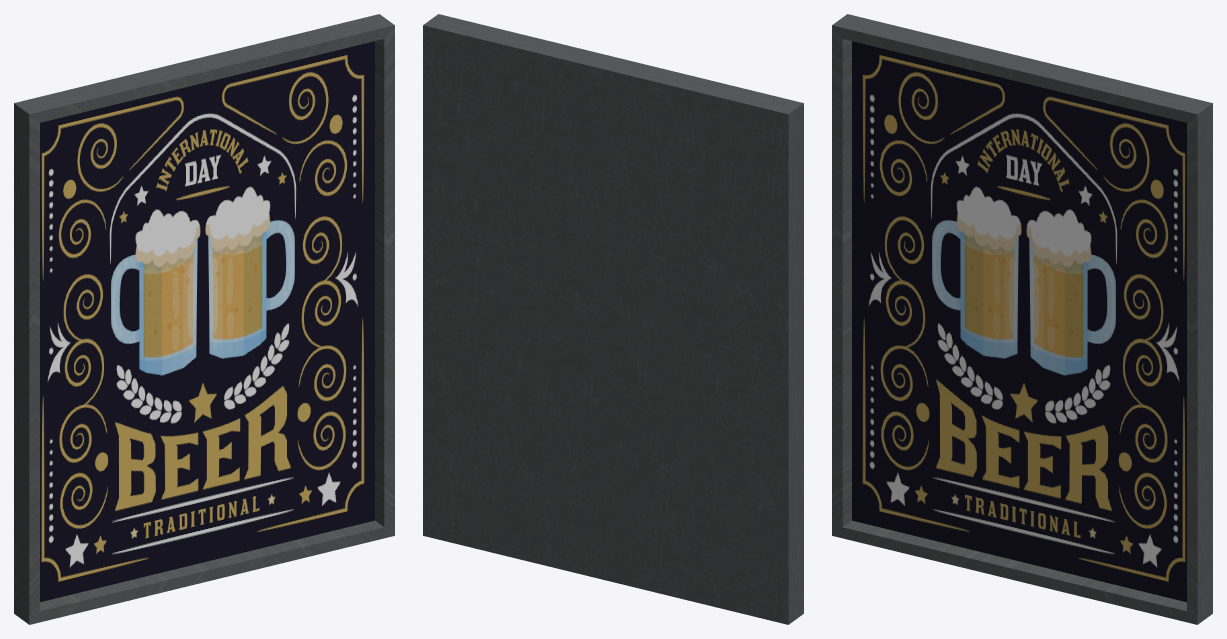
The model's file is SM_Billboard.fbx.
3 views of the same model, side by side, from view 1: azimuth 30°, elevation 25°; view 2: azimuth 150°, elevation 25°; view 3: azimuth 330°, elevation 25° (orthographic).
Visible parts, largest first — view 1: SM_Billboard; view 2: SM_Billboard; view 3: SM_Billboard.
Part boxes in pixels (box(x1,y1,x2,y2)): SM_Billboard: box(14, 14, 394, 624); SM_Billboard: box(423, 14, 803, 624); SM_Billboard: box(832, 14, 1212, 624).
Bounding box in the file's own units: 116 × 155 × 8.44.
2 materials, 2 textured.
